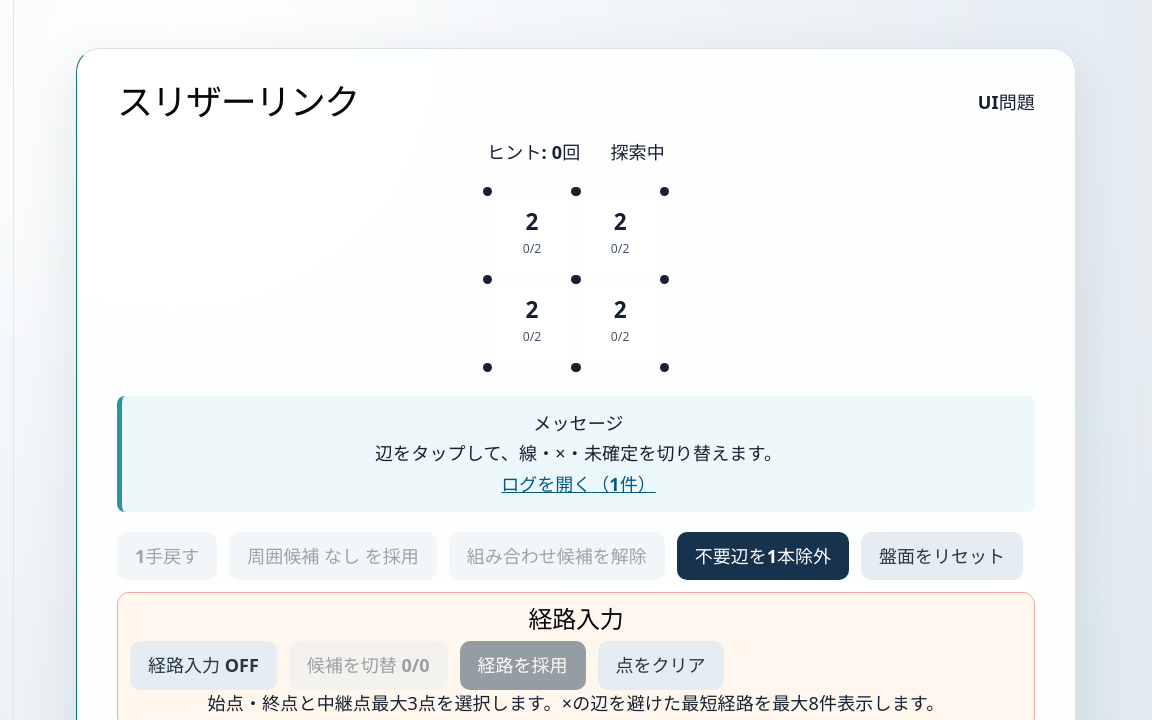
it: selects points and applies a route
This screenshot has width=1152, height=720.
Click the button "経路入力 OFF" at (203, 665), box [130,641,277,690]
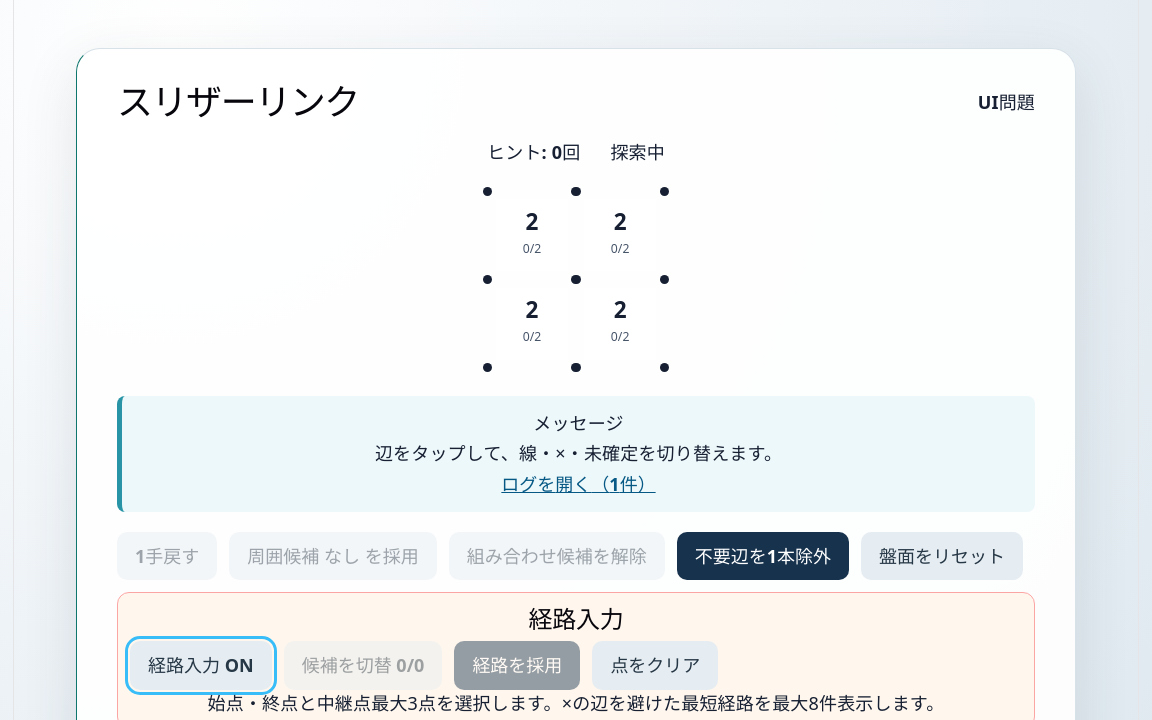
Click the button named "点 1行1列" at (488, 191), box [480,183,496,199]
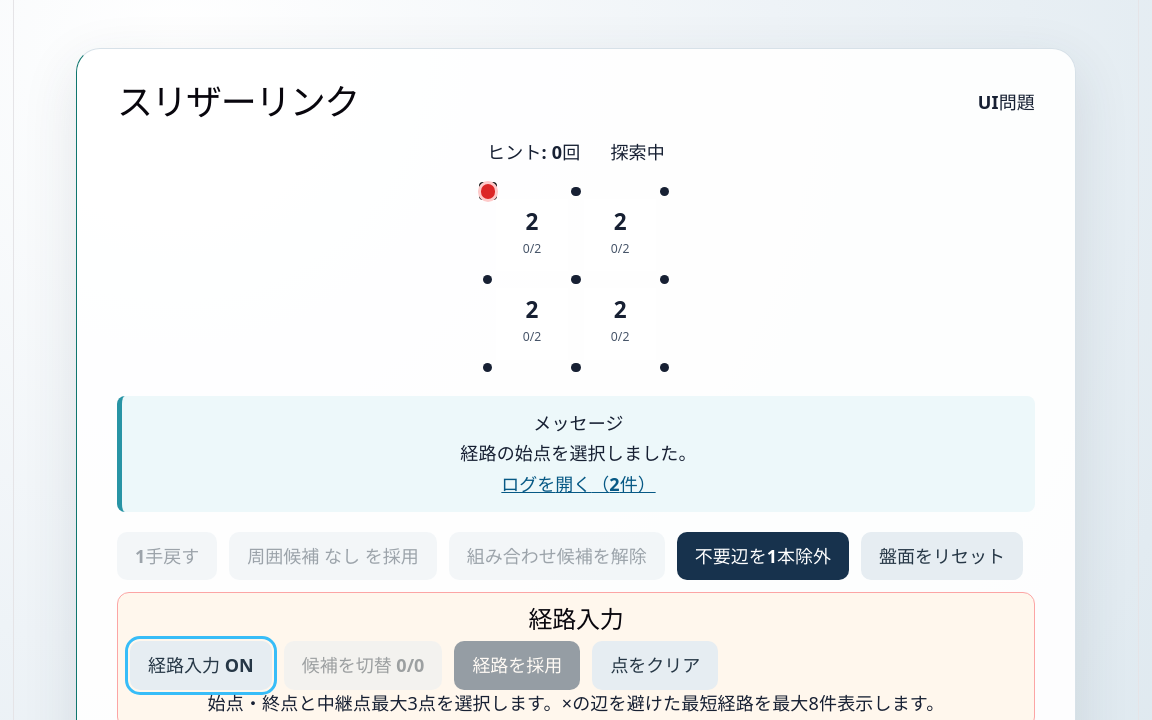
Click the button named "点 2行2列" at (576, 280), box [568,271,584,288]
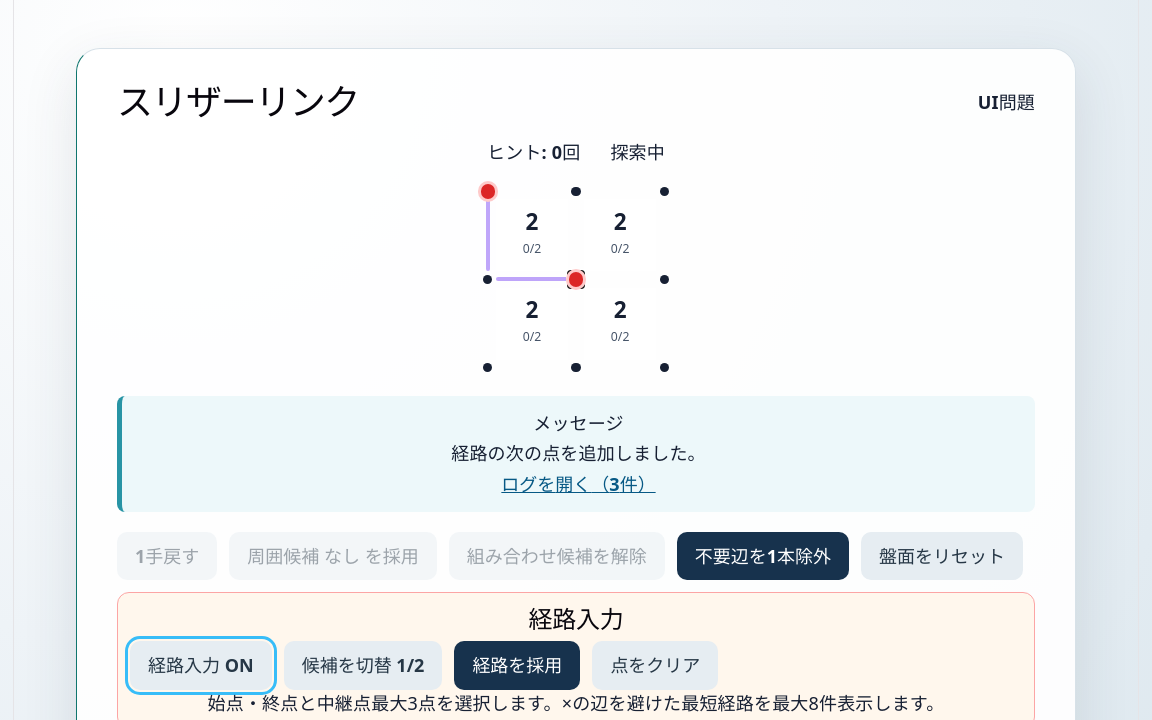
Expected: the button "経路を採用" is enabled
Click the button "経路を採用" at (517, 665), box [454,641,580,690]
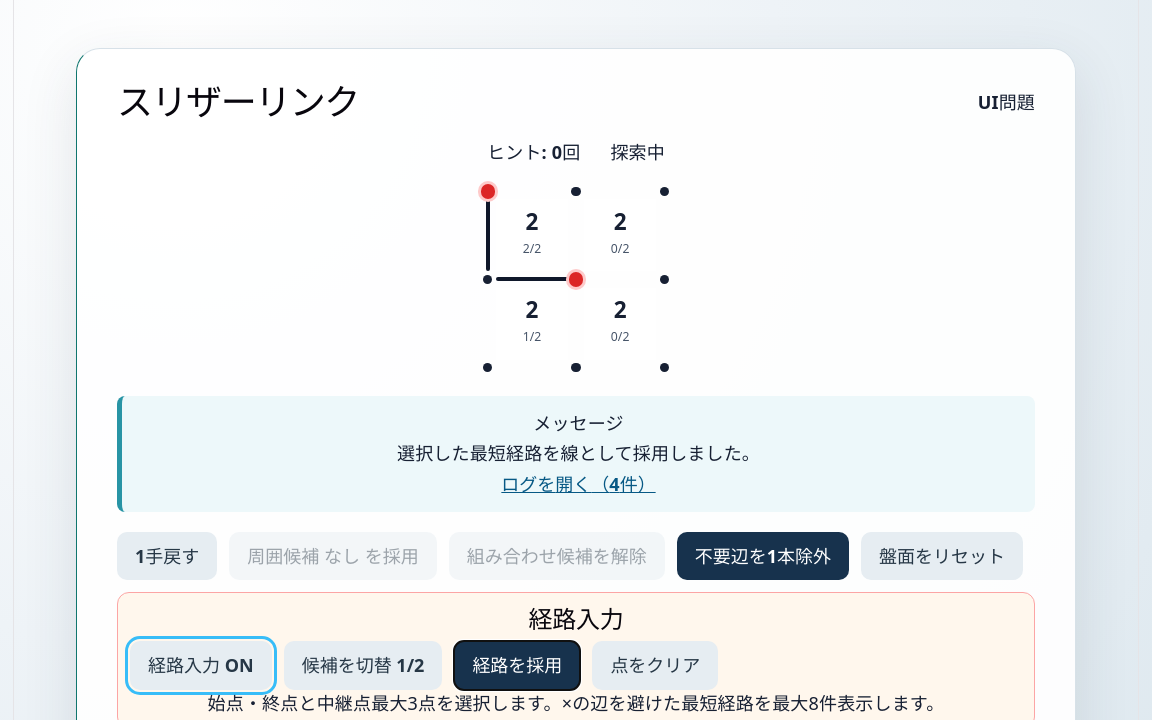
Expected: the text "選択した最短経路を線として採用しました。" is shown, [397,441,760,465]
